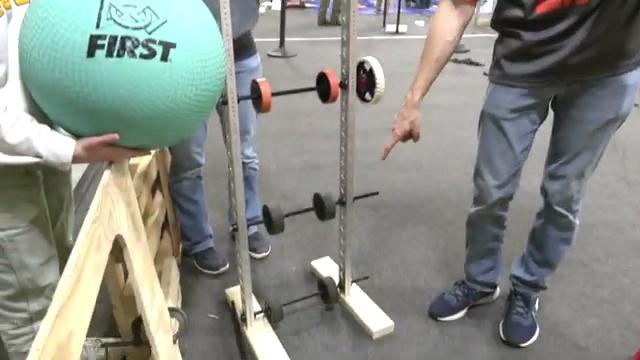ALGAE: (16, 0, 227, 150)
